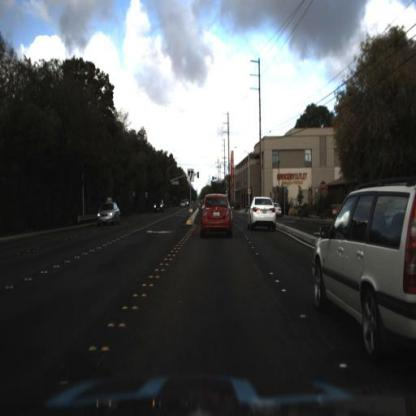car: (302, 169, 416, 369), (193, 190, 241, 240), (244, 188, 280, 236), (93, 199, 121, 230), (274, 197, 290, 218), (152, 197, 167, 215)
